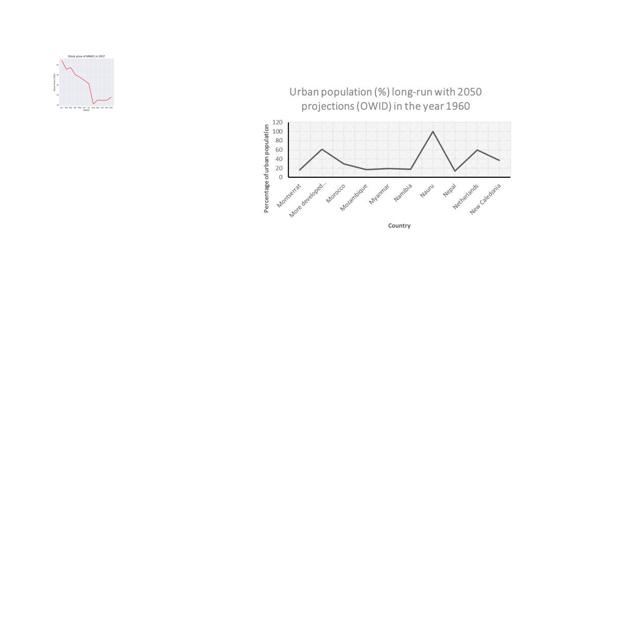Graph: (261, 82, 512, 231), (44, 51, 127, 113)
